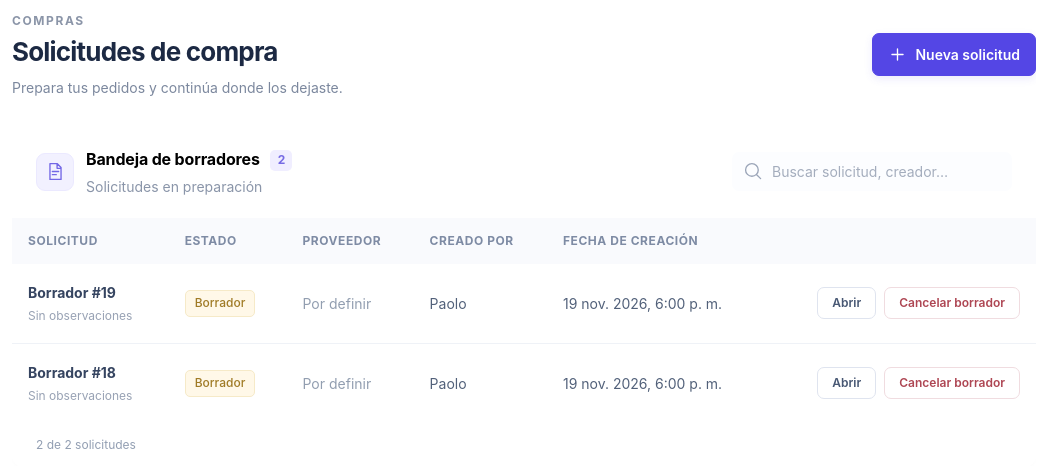
cancela mediante POST, retira solo la fila confirmada y muestra el mensaje
Click the button with aria-label "Cancelar borrador 19" at (952, 303), box [884,287,1020,319]
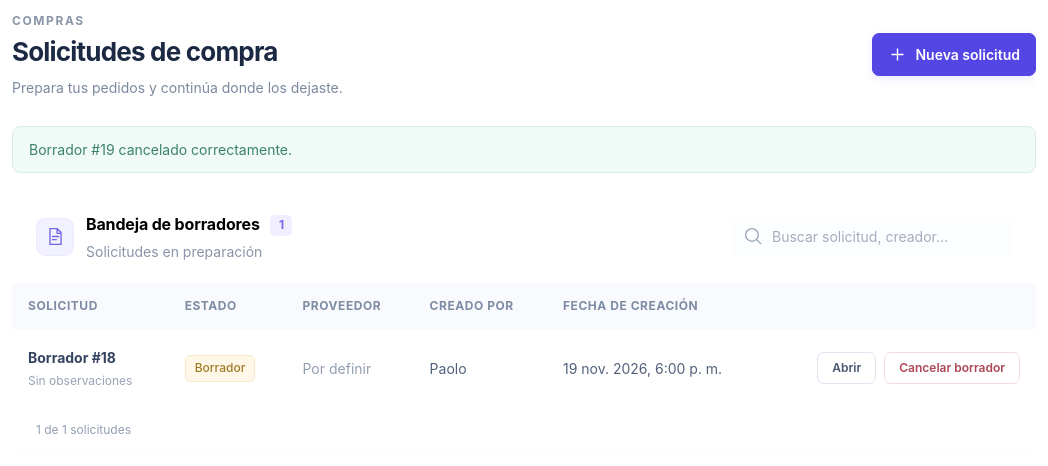
Check: the link with aria-label "Abrir borrador 18" is shown, box [817,352,876,384]
Check: the message reads "Borrador #19 cancelado correctamente.", box [29,140,292,158]
Check: the text "1 de 1 solicitudes" is shown, box [36,422,131,437]
